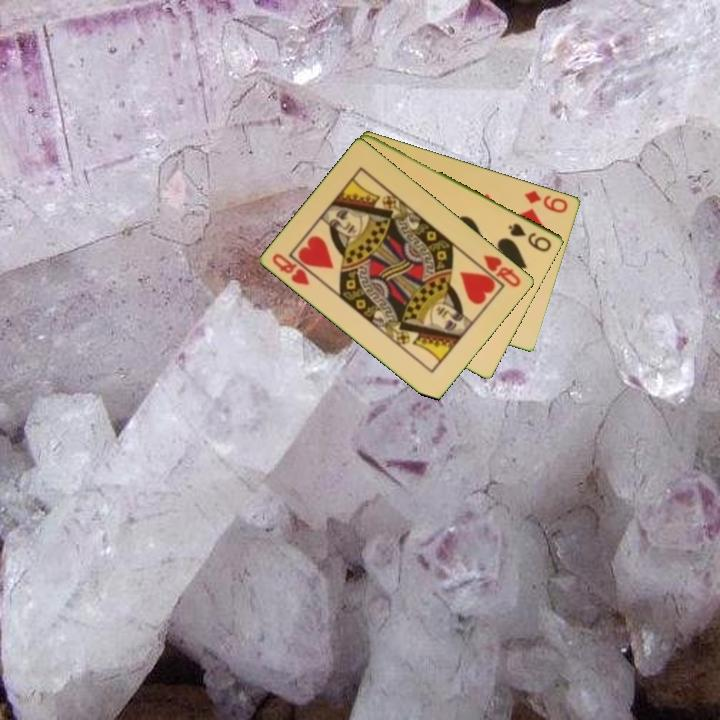9d: (521, 187, 571, 216)
9s: (505, 219, 555, 255)
Qh: (480, 251, 524, 290), (269, 250, 313, 288)
